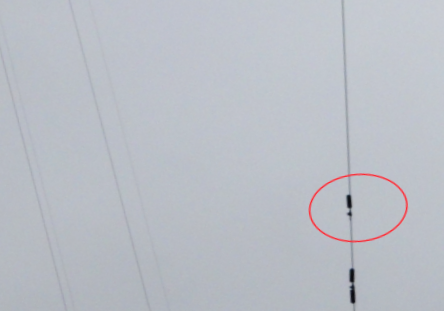damper: (347, 267, 359, 304)
damper_defect: (345, 193, 355, 222)
